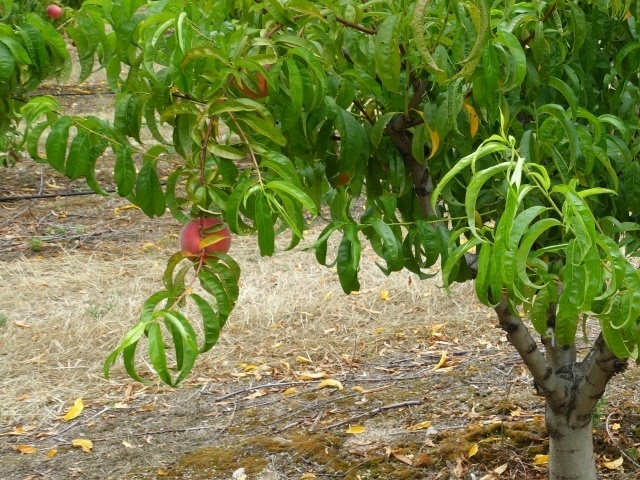peach: (177, 215, 238, 265), (229, 57, 273, 101), (42, 1, 64, 22)
